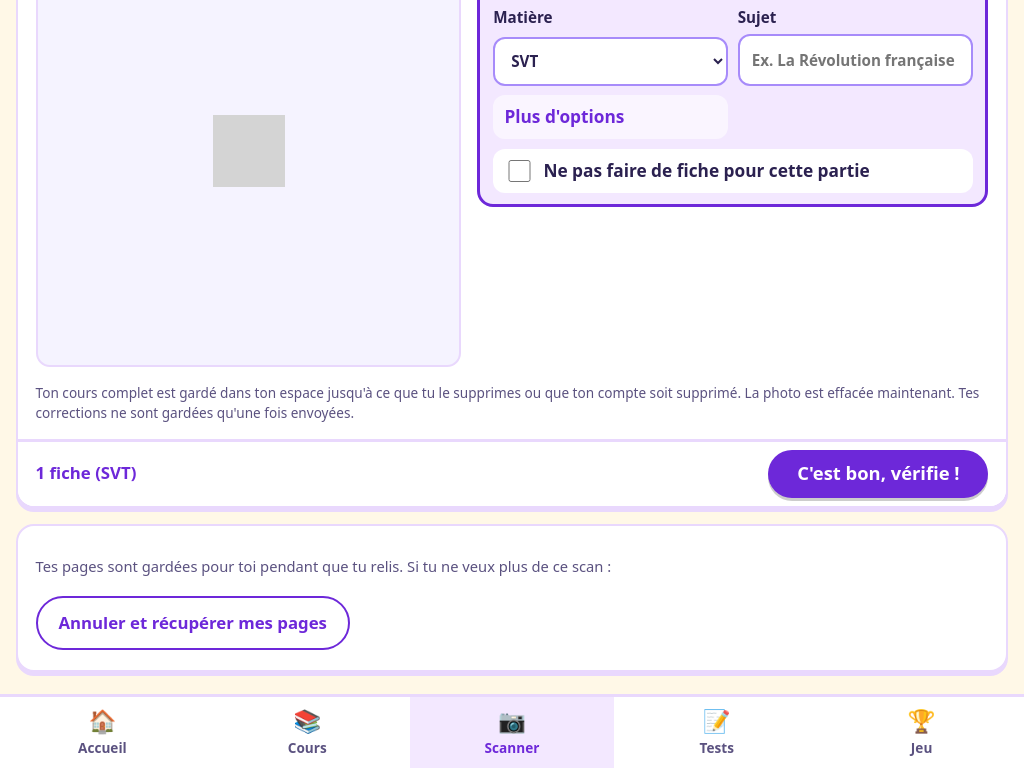
Test case: découper en sections › FIX-T4 B1: un premier clic sur « Annuler » demande confirmation et n'annule rien; « Non » garde le scan
(page scrolled)
Click the button "Annuler et récupérer mes pages" at (193, 623), box [36, 596, 350, 650]
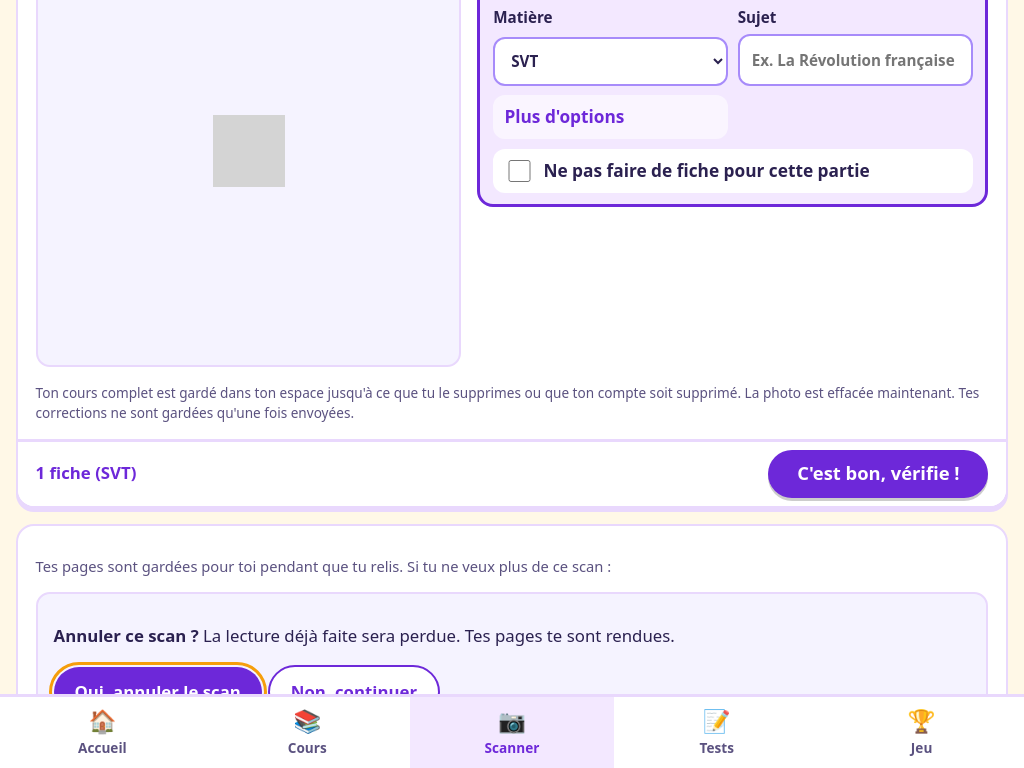
Expected: the text "La lecture déjà faite sera perdue" is shown, [199, 624, 675, 647]
Click the button "Non, continuer" at (354, 692), box [268, 665, 440, 719]
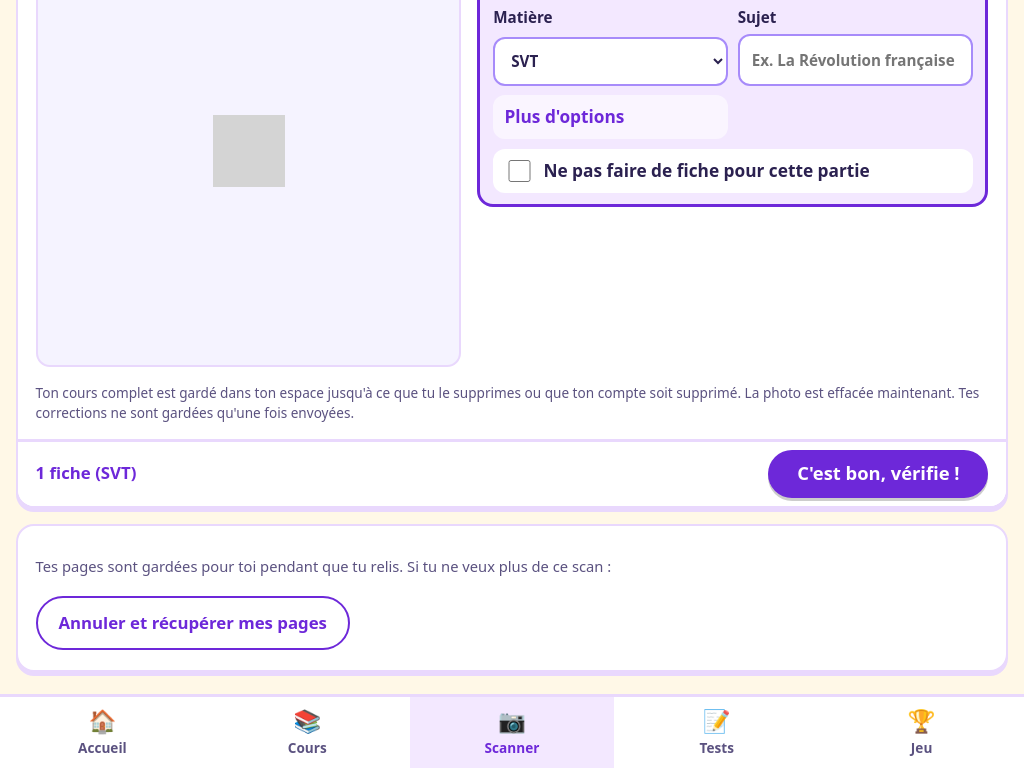
Expected: the button "Annuler et récupérer mes pages" is shown, [36, 596, 350, 650]
